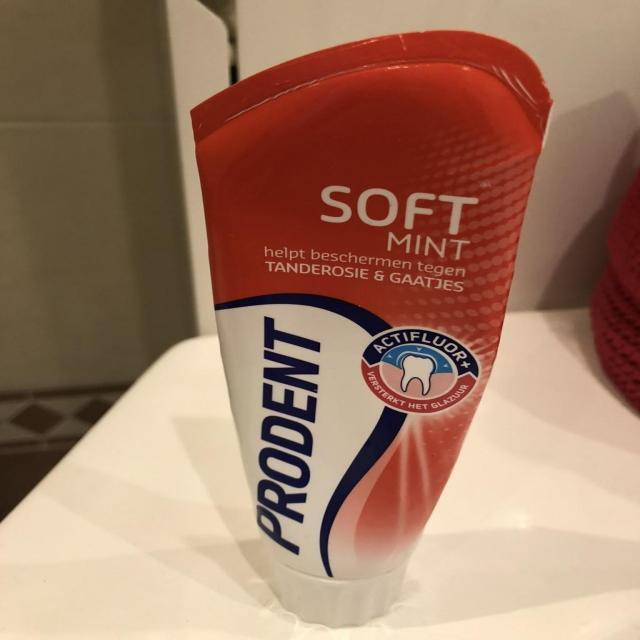Toothpaste: (176, 11, 564, 635)
